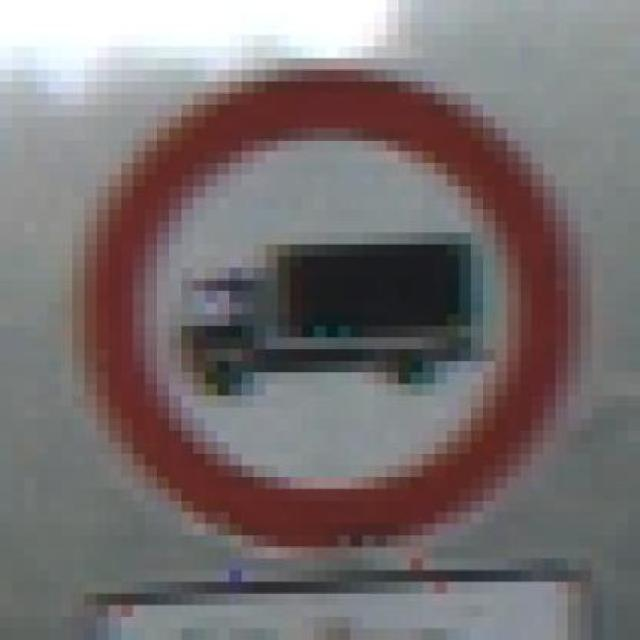Truck traffic is prohibited: (62, 67, 606, 556)
